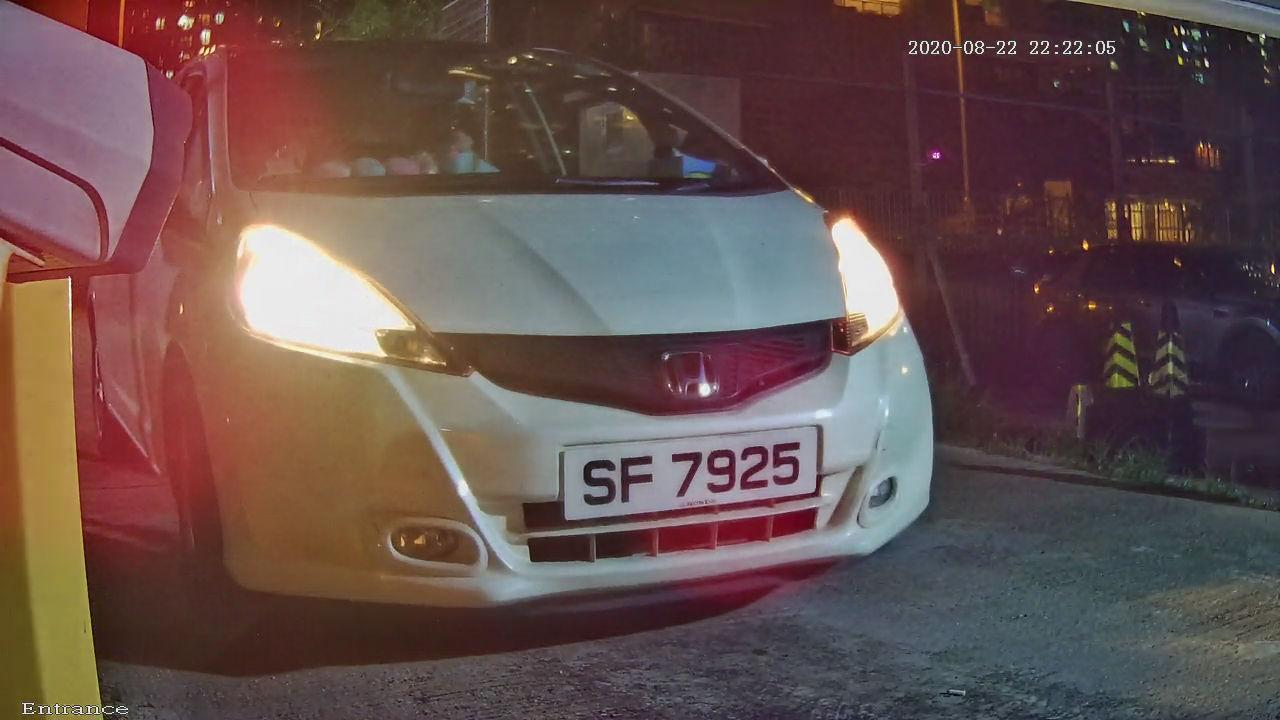Car: (75, 1, 1046, 669)
License Plate: (543, 418, 840, 528)
